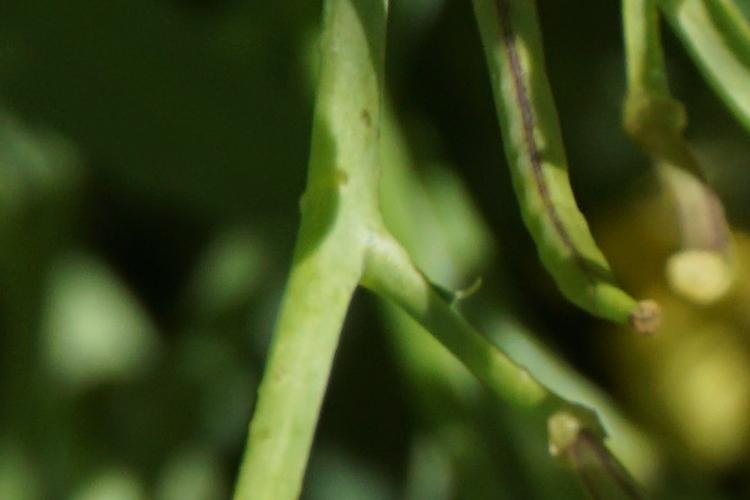pod: (492, 33, 670, 347), (595, 21, 750, 307), (540, 403, 654, 496)
